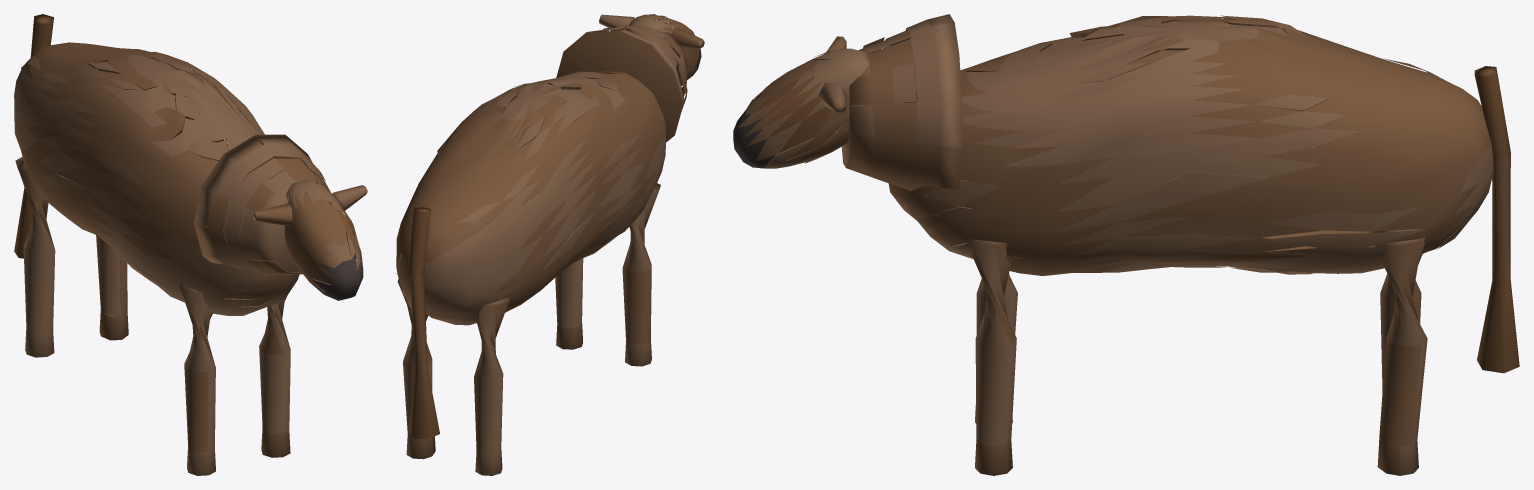
Rendered from animal.farm.cow_stand_1.glb.
3 renders of one model, left to right at view 1: azimuth 30°, elevation 25°; view 2: azimuth 150°, elevation 25°; view 3: azimuth 270°, elevation 25°, orthographic. The views are drawn at different scales.
Parts seen in each view (by area): view 1: main__fabric_753, main__fabric_864, main__fabric_754, main__fabric_764, main__fabric_433, main__fabric_642, main__fabric_743, main__fabric_643; view 2: main__fabric_753, main__fabric_864, main__fabric_754, main__fabric_764, main__fabric_643, main__fabric_642, main__fabric_653; view 3: main__fabric_753, main__fabric_864, main__fabric_754, main__fabric_764, main__fabric_642, main__fabric_743, main__fabric_643, main__fabric_653, main__fabric_433.
Part boxes in pixels (x1,y1,x2,y2): main__fabric_753: [18, 42, 363, 457]; main__fabric_864: [14, 55, 317, 475]; main__fabric_754: [20, 55, 367, 474]; main__fabric_764: [28, 59, 356, 475]; main__fabric_433: [312, 248, 363, 300]; main__fabric_642: [18, 14, 53, 258]; main__fabric_743: [286, 202, 360, 276]; main__fabric_643: [14, 187, 292, 257]; main__fabric_753: [396, 16, 702, 459]; main__fabric_864: [396, 25, 687, 475]; main__fabric_754: [398, 14, 704, 475]; main__fabric_764: [400, 14, 675, 454]; main__fabric_643: [408, 274, 439, 439]; main__fabric_642: [408, 207, 439, 430]; main__fabric_653: [410, 274, 426, 372]; main__fabric_753: [744, 16, 1491, 475]; main__fabric_864: [859, 14, 1493, 443]; main__fabric_754: [737, 14, 1493, 475]; main__fabric_764: [746, 17, 1464, 317]; main__fabric_642: [1474, 66, 1510, 373]; main__fabric_743: [749, 78, 850, 162]; main__fabric_643: [1492, 153, 1519, 373]; main__fabric_653: [1496, 152, 1510, 280]; main__fabric_433: [733, 110, 776, 168].
Bounding box in the file's own units: 0.6895 × 1.47 × 2.48.
